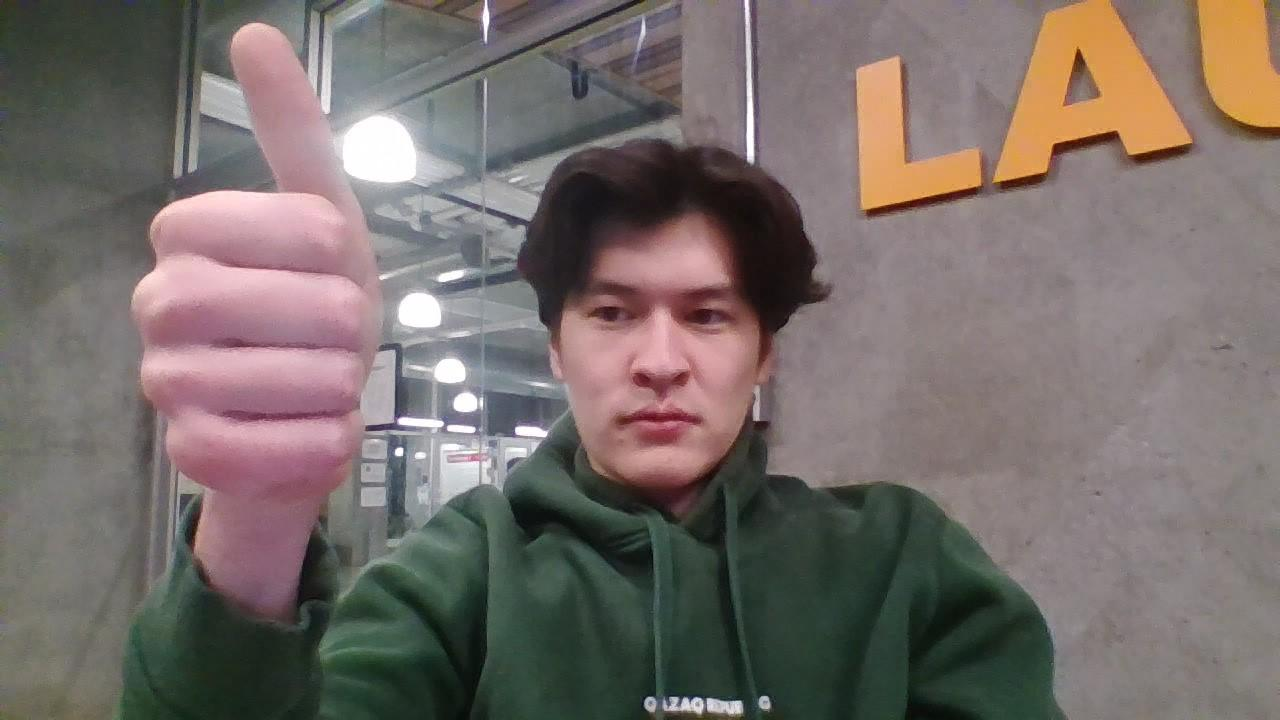thumbsUp: (131, 20, 387, 499)
